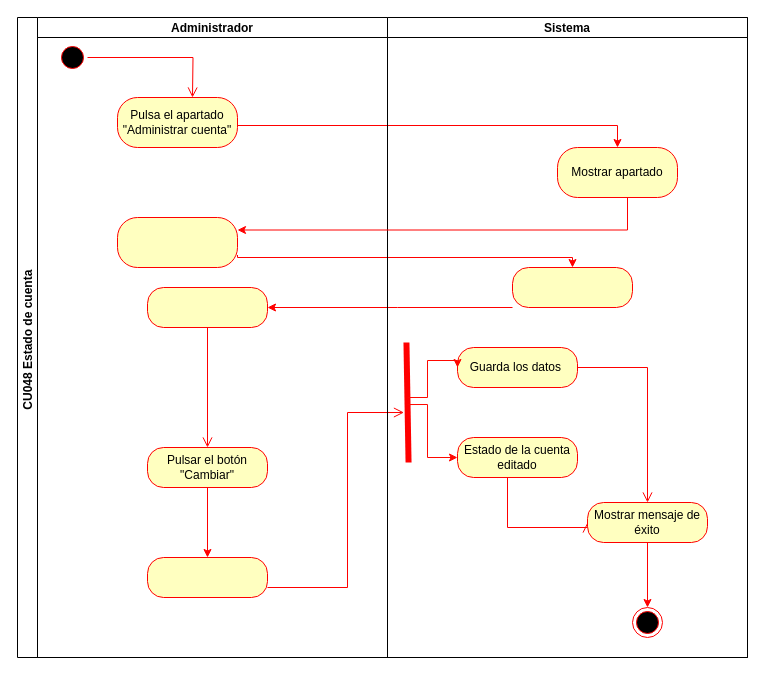
Some shapes in this 765 by 675 pixel diagram are drawn without their labels. The shapes that lost their labels are listed below. From the top down, each one's box as (x1, y1, x2, y2) in pixels, then its label:
(116, 216, 238, 268): Pulsar el botón "Editar estado de la cuenta "
(146, 286, 268, 328): Seleccionar estado
(512, 266, 632, 308): Mostrar formulario edición de estado
(146, 556, 268, 598): Pulsar el botón "confirmar".
